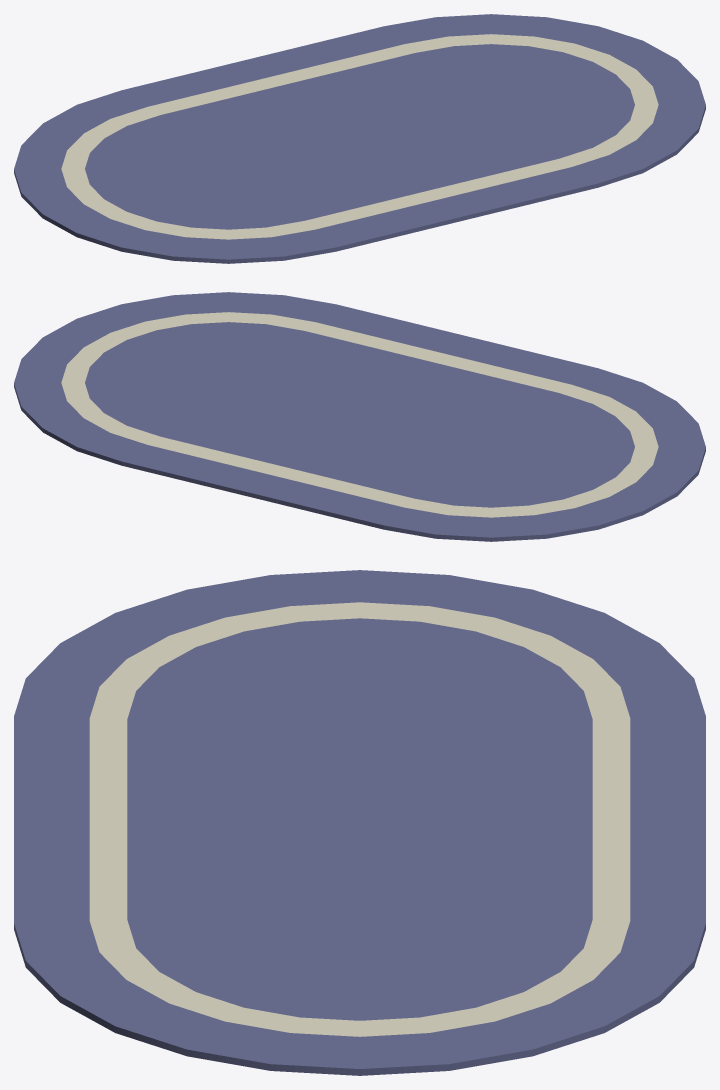
File: tappeto2.glb
The picture shows the model from 3 angles, top to bottom: view 1: azimuth 30°, elevation 25°; view 2: azimuth 150°, elevation 25°; view 3: azimuth 270°, elevation 25°; orthographic projection. The views are drawn at different scales.
Visible parts, largest first — view 1: rugRounded(Clone); view 2: rugRounded(Clone); view 3: rugRounded(Clone).
Part boxes in pixels (x1,y1,x2,y2): rugRounded(Clone): [14, 14, 705, 263]; rugRounded(Clone): [14, 292, 705, 541]; rugRounded(Clone): [14, 570, 705, 1075].
Bounding box in the file's own units: 1.57 × 0.01 × 0.92.
